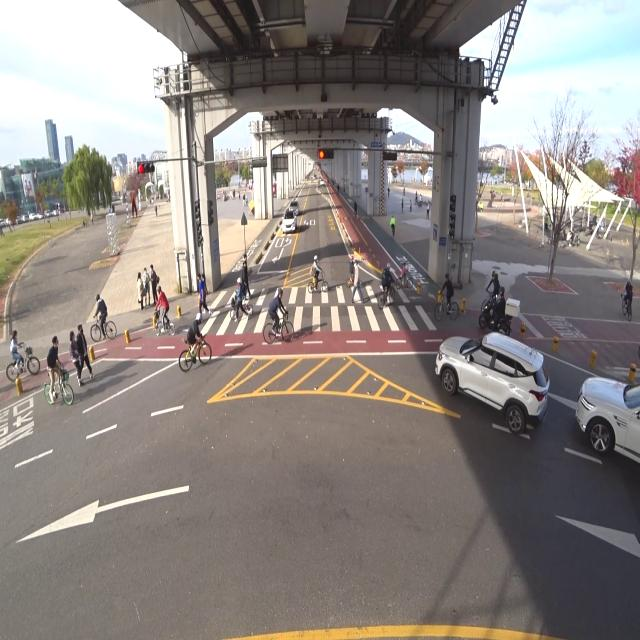Car: (433, 321, 557, 460), (571, 354, 640, 501), (280, 203, 296, 232), (288, 197, 300, 220)
Motorcycle: (476, 283, 522, 338)
